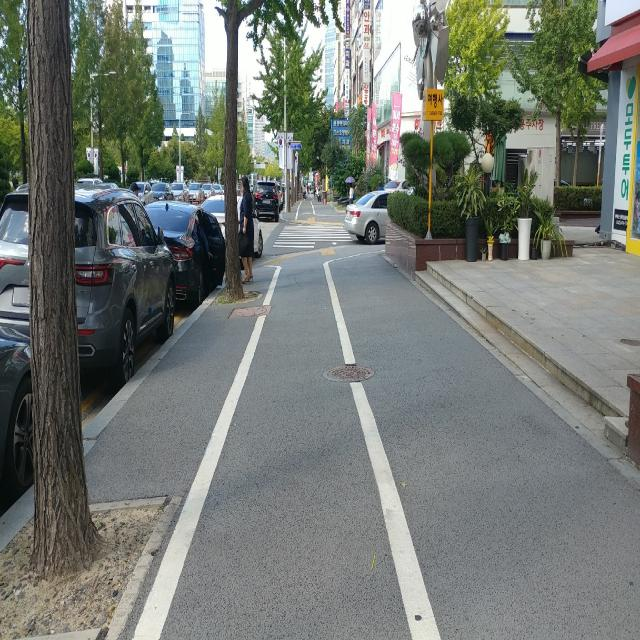횡단보도: (272, 225, 353, 249)
